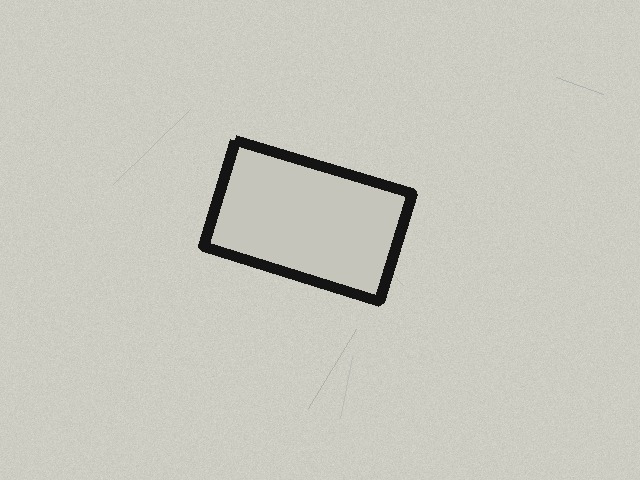parking_area: (203, 140, 412, 301)
